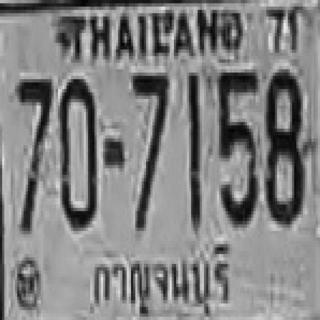N00: (58, 76, 94, 228)
N01: (187, 72, 200, 228), (187, 71, 200, 223)
N05: (216, 68, 257, 223)
N07: (131, 69, 168, 228), (131, 69, 168, 211), (17, 76, 51, 228), (17, 76, 51, 201), (131, 69, 168, 172), (17, 76, 51, 178)
N08: (264, 68, 303, 223)
P17: (88, 242, 244, 320)
